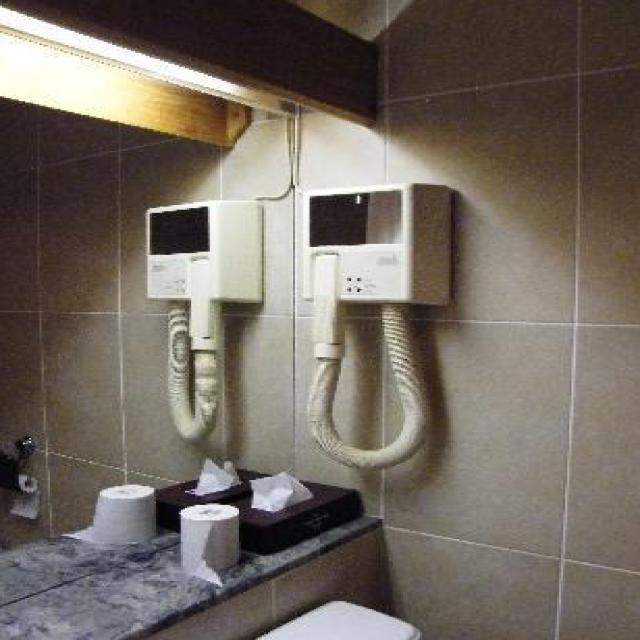dryer: (255, 168, 478, 482)
